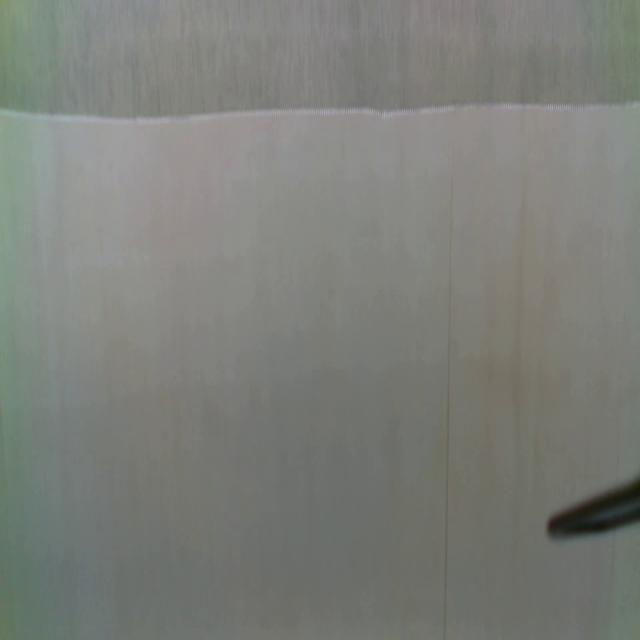crease: (439, 169, 455, 640)
